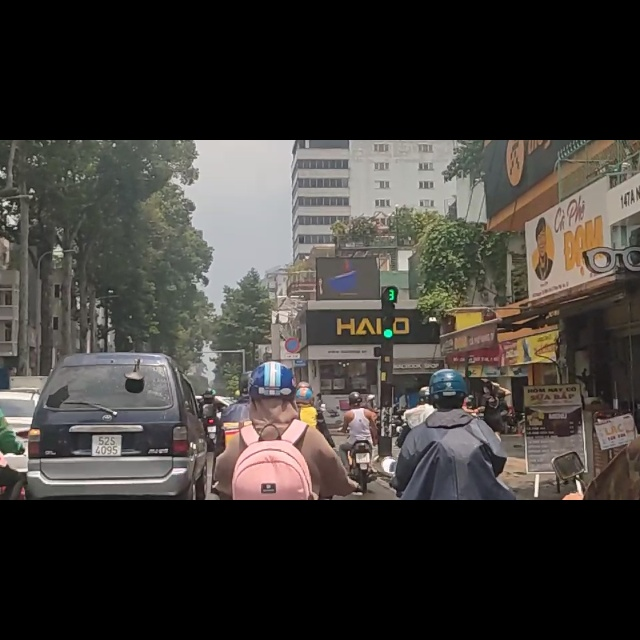bien_cam: (283, 351, 301, 382)
